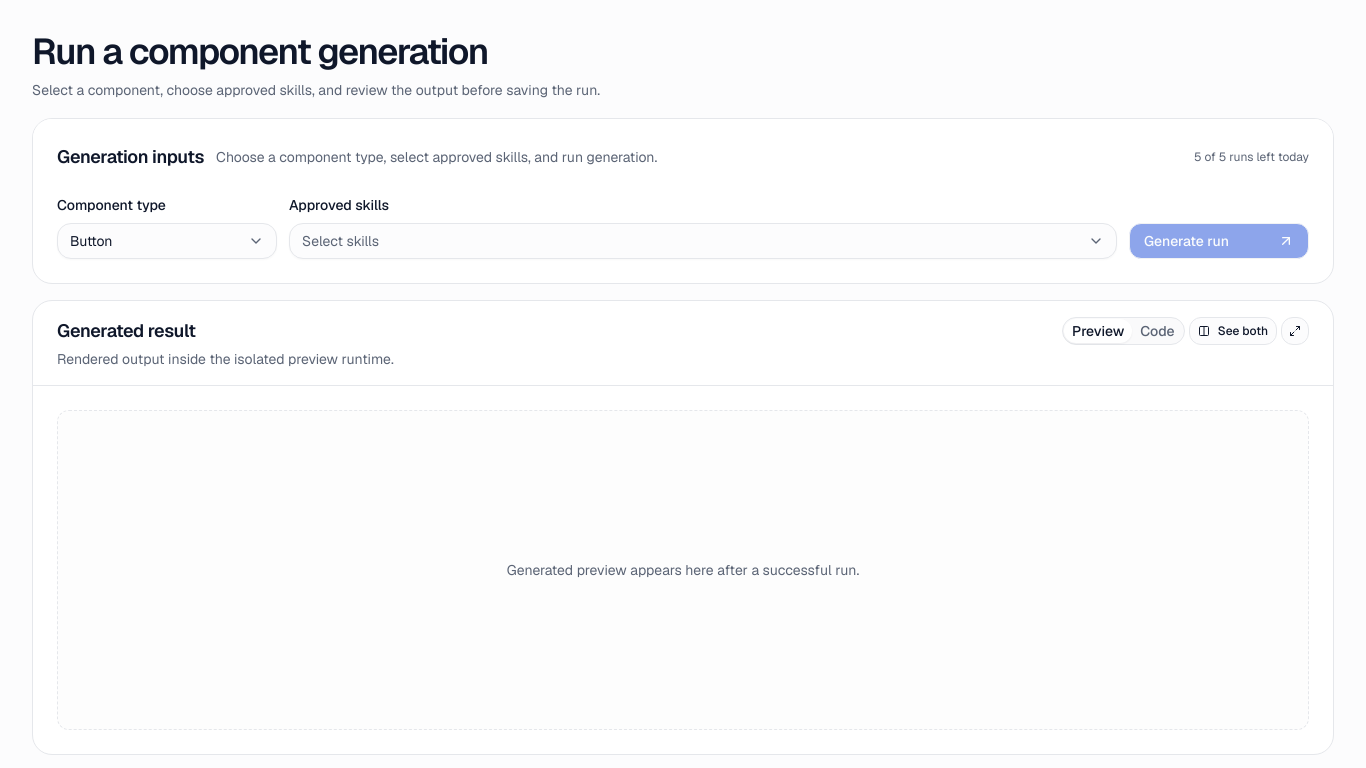
Scenario: workspace page shows the generation builder heading
The width and height of the screenshot is (1366, 768).
Expected: the heading "Run a component generation" is shown, [32, 28, 488, 75]
Expected: the text "select a component, choose approved skills, and review the output before saving the run" is shown, [32, 81, 600, 99]
What coordinates should you click on to do the following:
click the button named "component type button"
I would click on:
 (167, 241)
Its box is [57, 223, 277, 259].
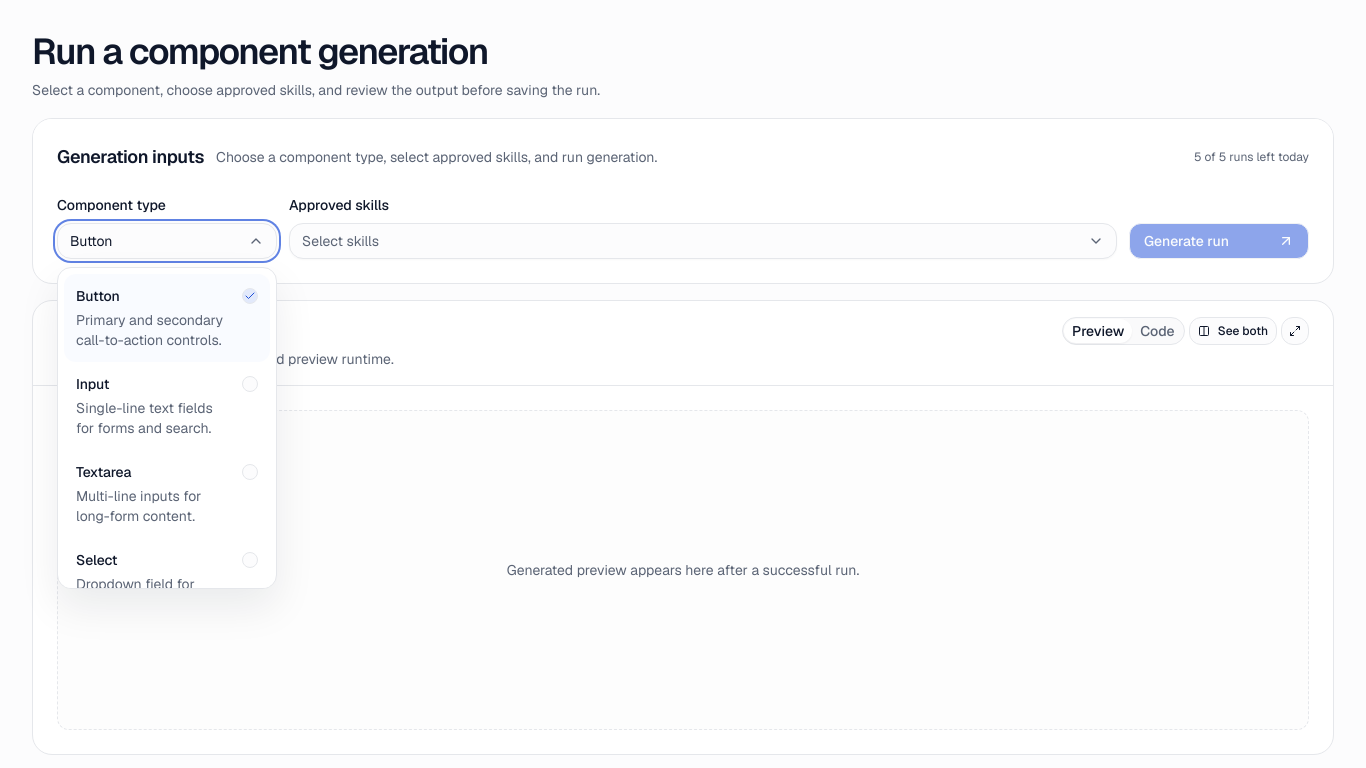
Expected: the text "Single-line text fields for forms and search." is shown, [76, 398, 230, 438]
What coordinates should you click on to do the following:
click the text "Input"
I would click on:
 (93, 384)
Its box is [76, 375, 109, 393].
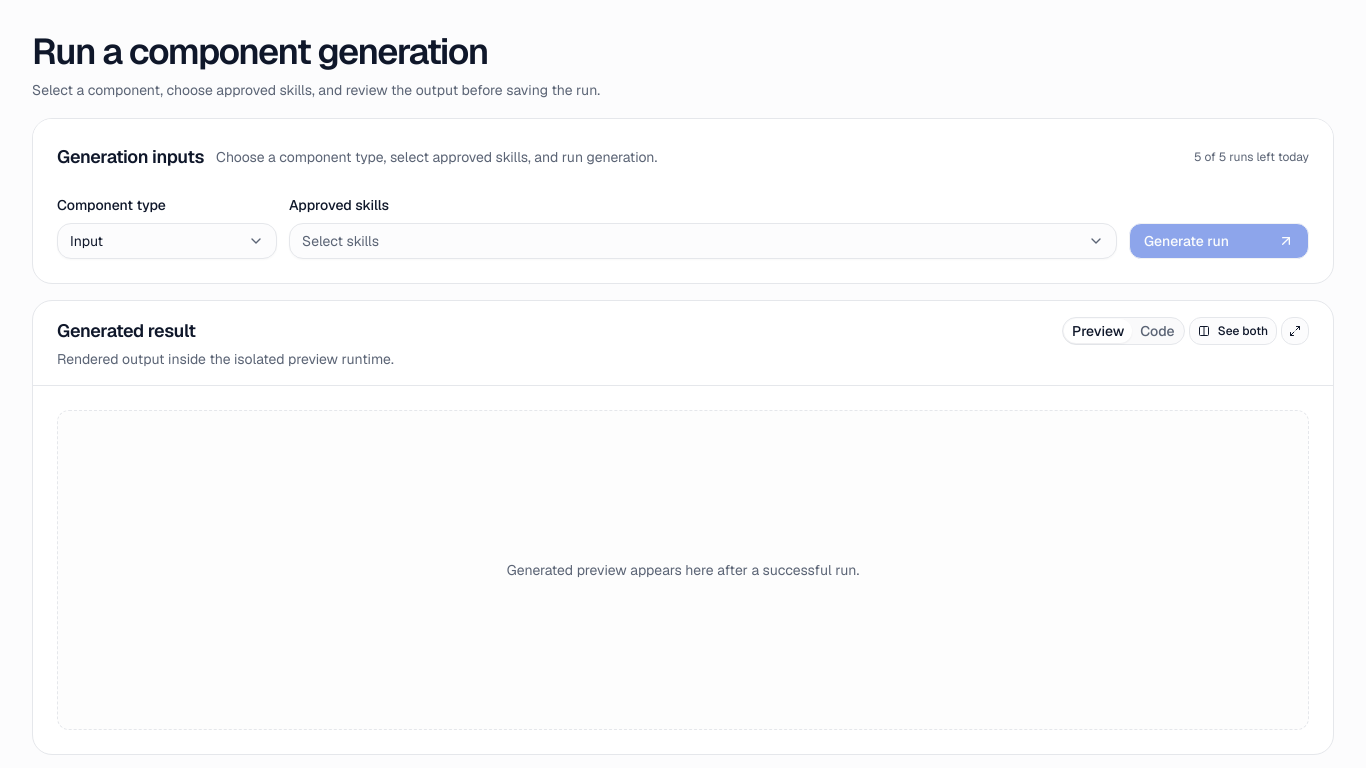
Expected: the button named "component type input" is shown, [57, 223, 277, 259]
Expected: the button "Single-line text fields for forms and search." is gone
What coordinates should you click on to do the following:
click the button "Select skills"
I would click on:
 (341, 241)
Its box is [289, 223, 1117, 259].
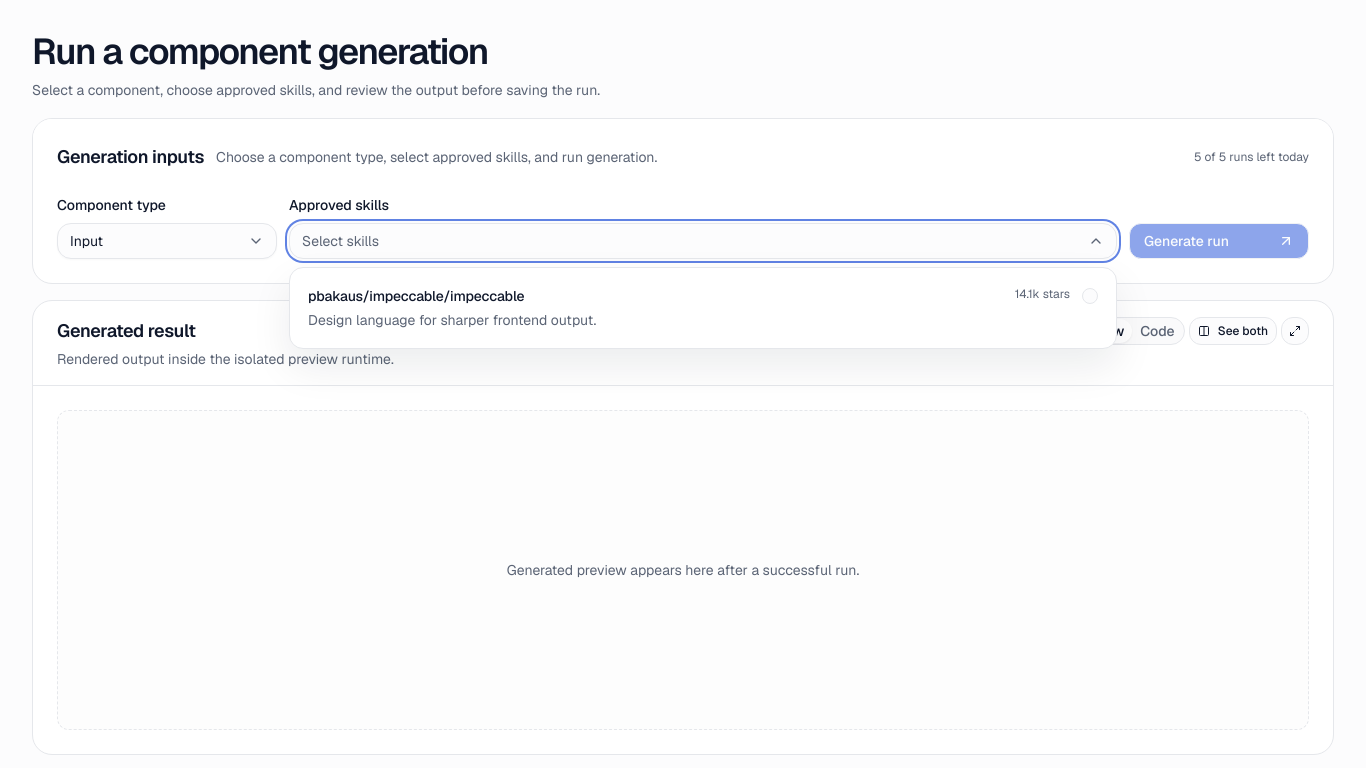
Expected: the text "pbakaus/impeccable/impeccable" is shown
Expected: the text "14.1k stars" is shown, [1015, 286, 1070, 302]
What coordinates should you click on to do the following:
click the text "pbakaus/impeccable/impeccable"
I would click on:
 (416, 296)
Its box is [308, 286, 524, 306].
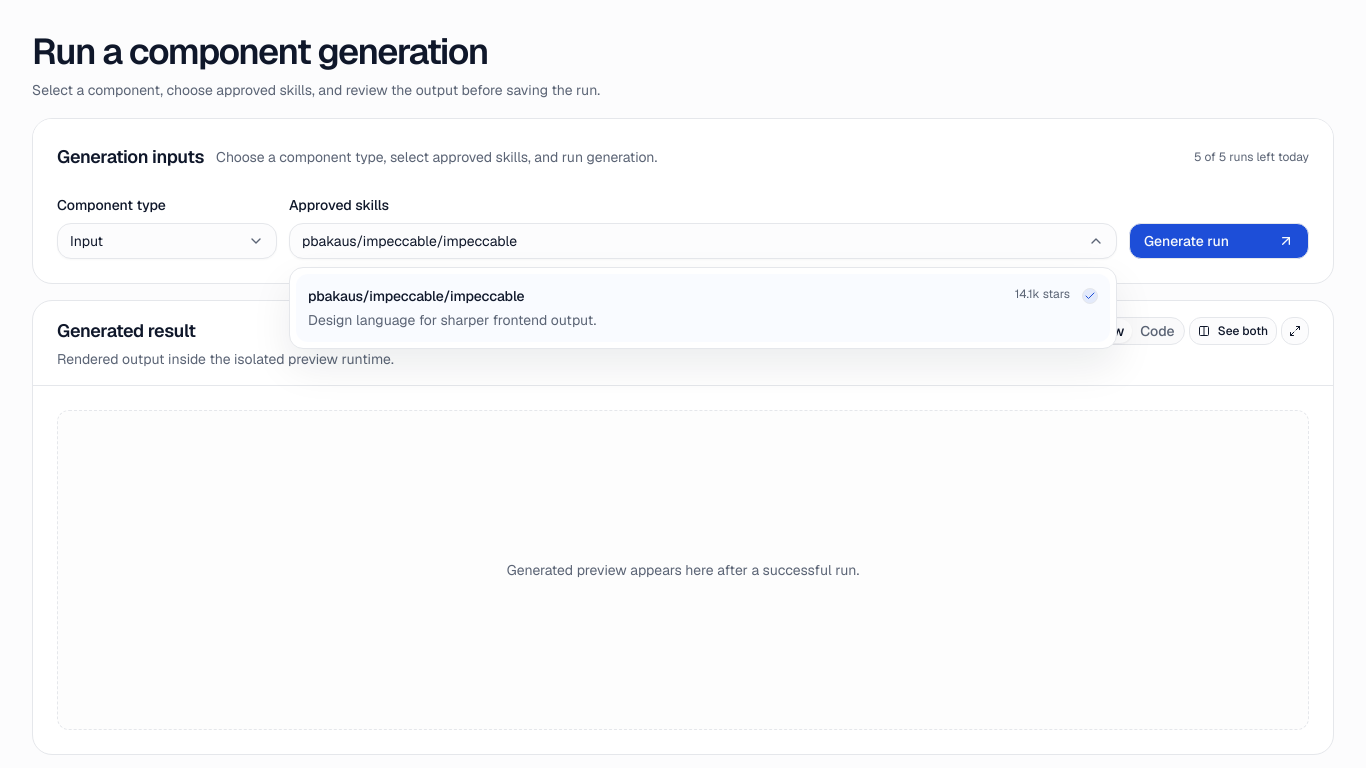
Expected: the heading "Generated result" is shown, [57, 319, 196, 342]
Expected: the button "pbakaus/impeccable/impeccable" is shown, [289, 223, 1117, 259]
